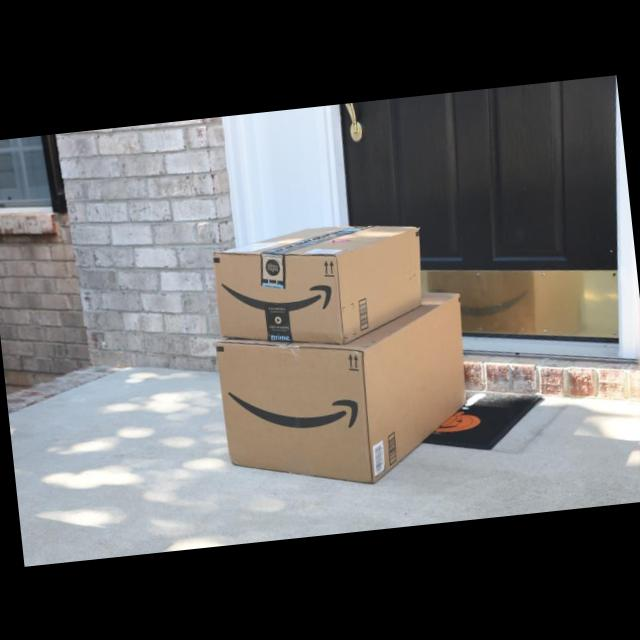box: (214, 286, 479, 498), (208, 214, 430, 356)
